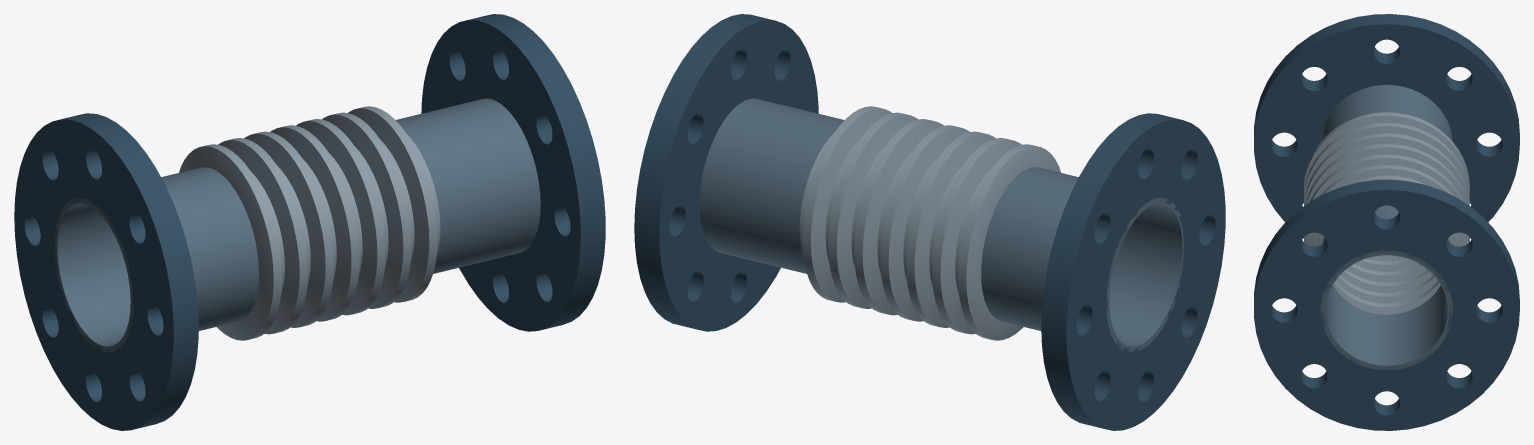
Rendered from flan-dn80-L280-D89-f-o195.glb.
3 views of the same model, side by side, from view 1: azimuth 30°, elevation 25°; view 2: azimuth 150°, elevation 25°; view 3: azimuth 270°, elevation 25° (orthographic). The views are drawn at different scales.
Parts seen in each view (by area): view 1: prokladka_silfon_1, homut_flanec_1, homut_flanec_2, patrubok_1, patrubok_2; view 2: prokladka_silfon_1, homut_flanec_1, homut_flanec_2, patrubok_1, patrubok_2; view 3: homut_flanec_2, homut_flanec_1, prokladka_silfon_1, patrubok_2, patrubok_1.
Part boxes in pixels (box(x1,y1,x2,y2)): prokladka_silfon_1: box(179, 106, 440, 340); homut_flanec_1: box(14, 113, 198, 430); homut_flanec_2: box(421, 14, 605, 331); patrubok_1: box(54, 167, 258, 352); patrubok_2: box(396, 98, 540, 273); prokladka_silfon_1: box(799, 106, 1060, 340); homut_flanec_1: box(1041, 113, 1225, 430); homut_flanec_2: box(634, 14, 818, 331); patrubok_1: box(981, 167, 1185, 352); patrubok_2: box(699, 98, 844, 273); homut_flanec_2: box(1254, 179, 1519, 430); homut_flanec_1: box(1254, 14, 1519, 238); prokladka_silfon_1: box(1304, 112, 1469, 314); patrubok_2: box(1320, 205, 1452, 370); patrubok_1: box(1321, 84, 1452, 140).
Size of the model in its own units: 280 by 179 by 179.
